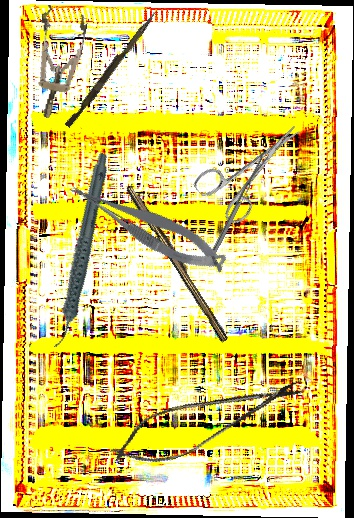Handpiece: (12, 151, 147, 350)
Iris Scissors: (190, 106, 320, 231)
Micro Scissor: (103, 361, 310, 480), (64, 163, 233, 288)
Pusher: (64, 7, 158, 131)
Scalpel Handle: (122, 182, 234, 344)
Spatula Surgical: (201, 149, 267, 265)
Speculum: (23, 4, 90, 122)
